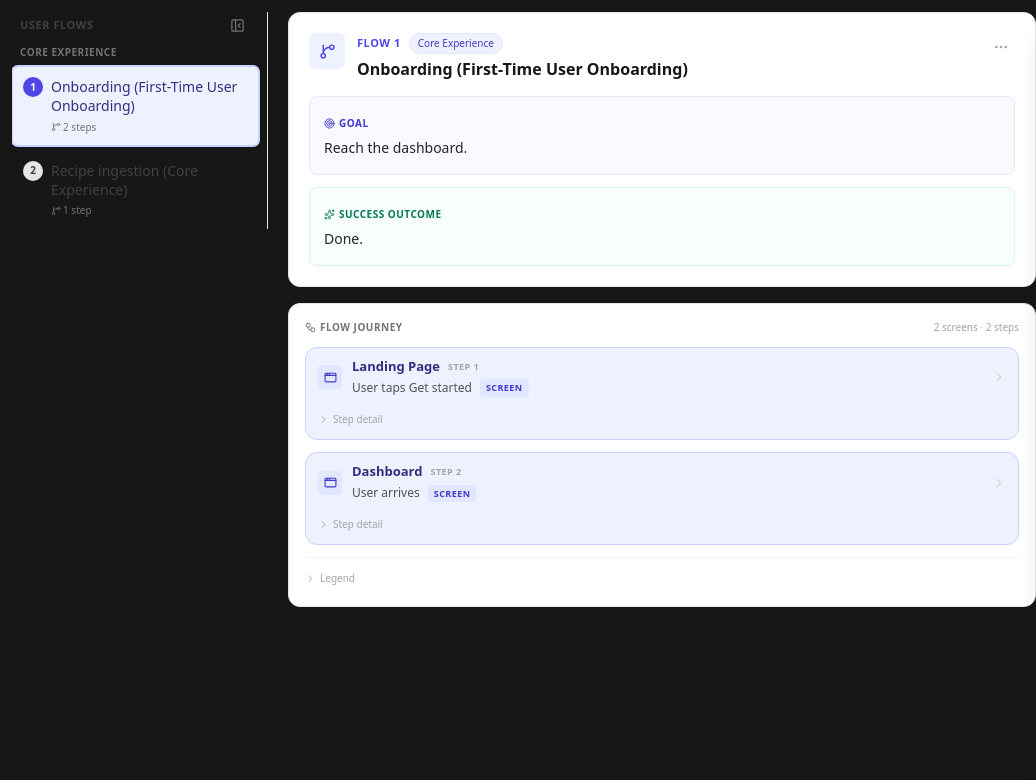
Test: UserFlowsRenderer — desktop cleanup › switches flows from the expanded-by-default desktop rail
Expected: the text "Reach the dashboard." is shown, [324,138,467,157]
Expected: the text "Import a recipe." is not shown
Note: The rail now defaults to the NAMED flow list (audit L4) — switch by title.
Click the text "Recipe ingestion (Core Experience)" at (124, 180), box [51,160,198,199]
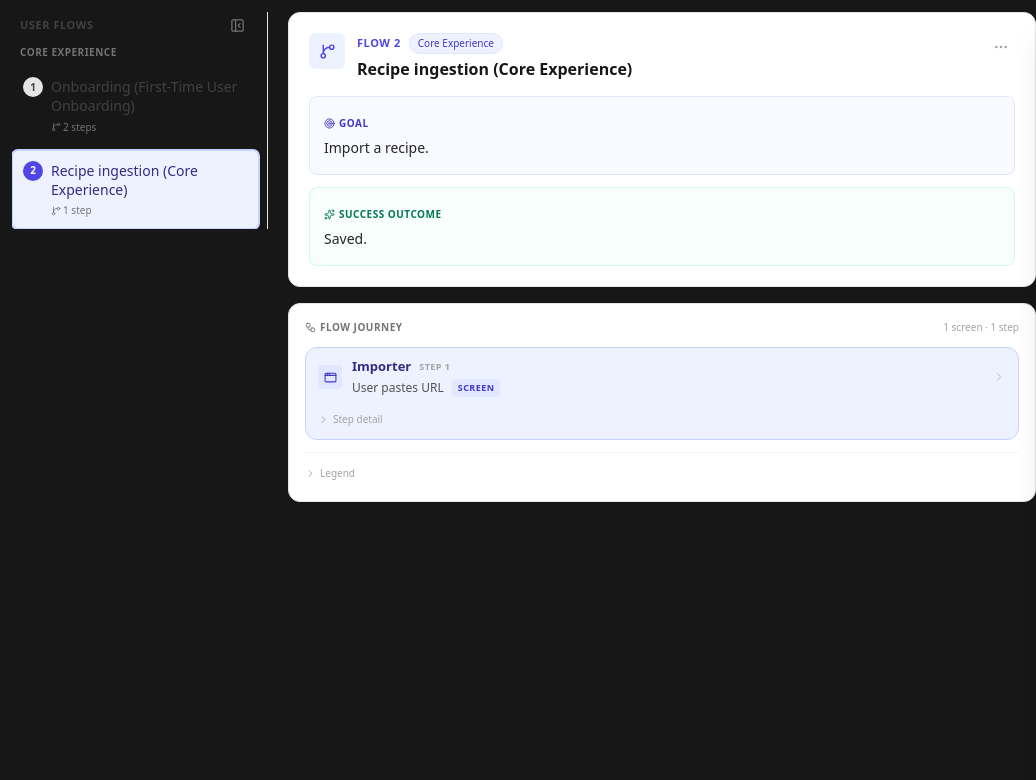
Expected: the text "Import a recipe." is shown, [324,138,429,157]
Expected: the text "Reach the dashboard." is gone
